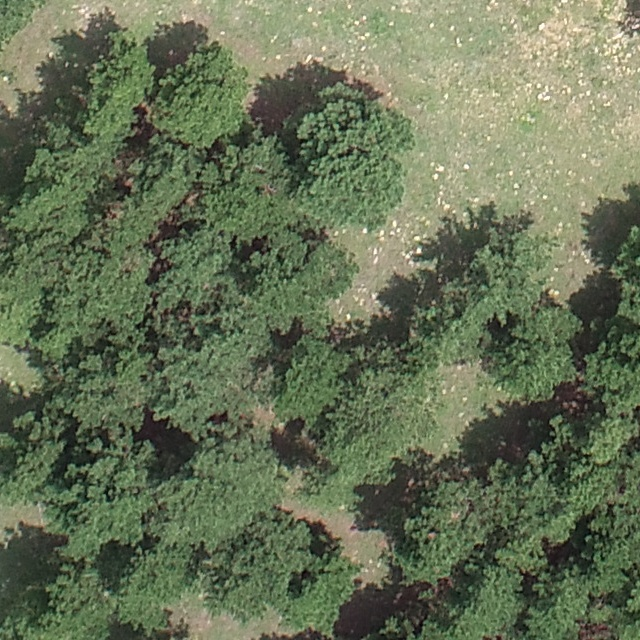unhealthy: (577, 620, 614, 639)
